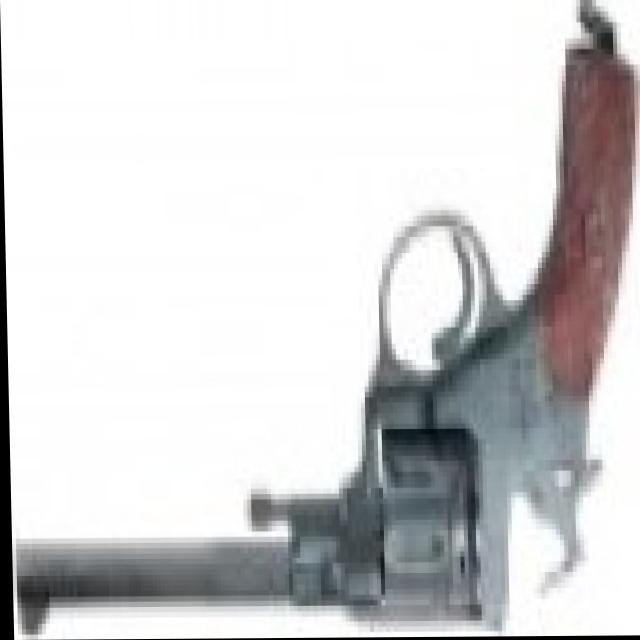handgun: (5, 66, 623, 639)
